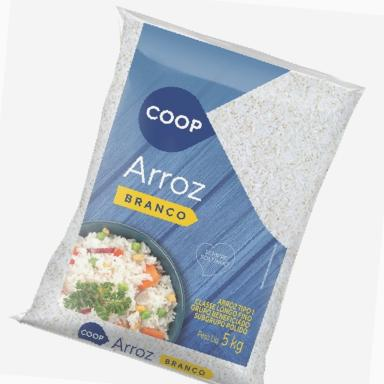rice package: (22, 10, 362, 383)
